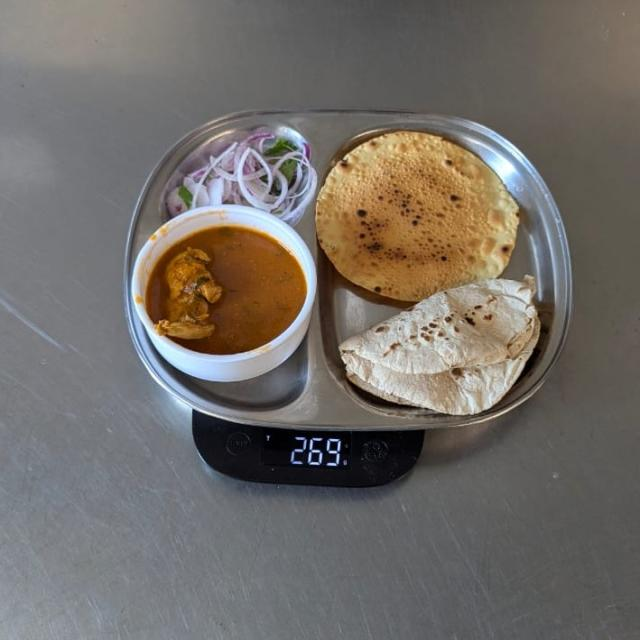Chapati: (340, 284, 540, 418)
Chicken Curry: (139, 226, 312, 353)
Papad: (318, 128, 523, 291)
Salad: (160, 132, 311, 214)
